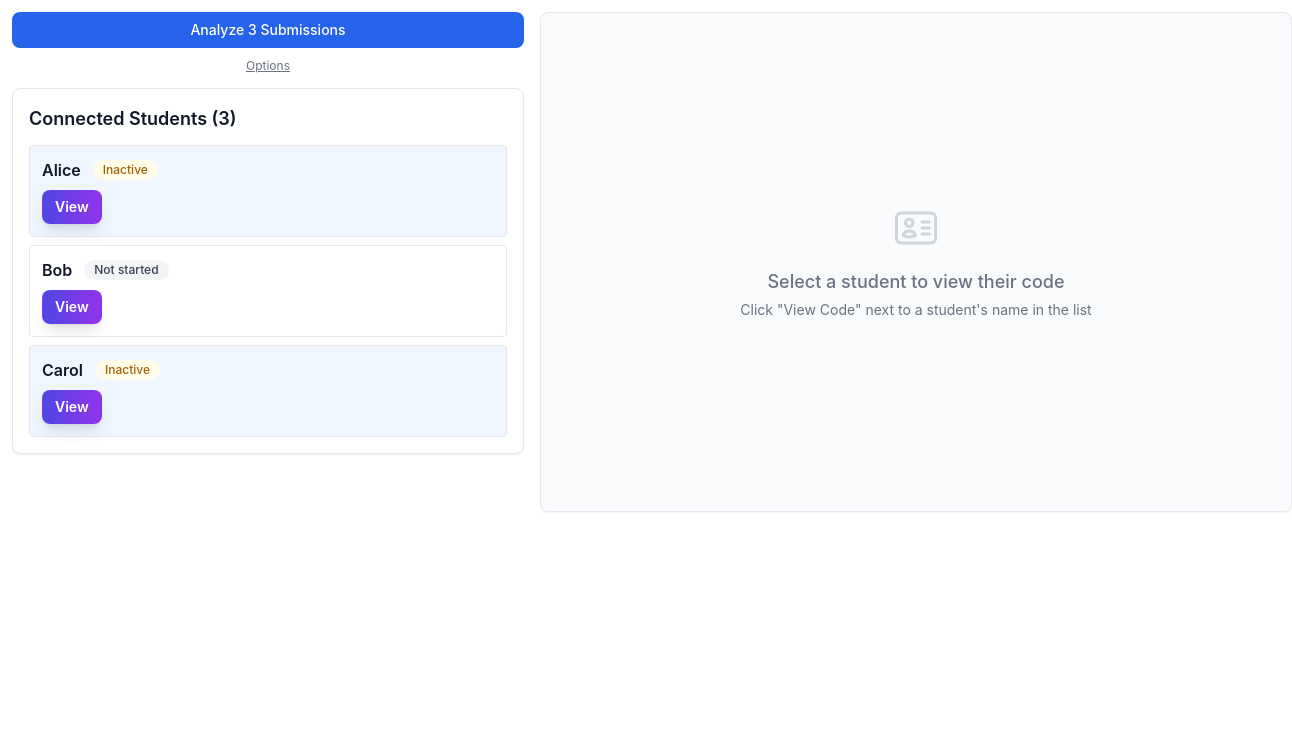
Test: SessionStudentPane › analysis options panel › clicking the options toggle again collapses the panel
Step 1. Click the button with test id "analysis-options-toggle" → (268, 66), box [246,58,290,74]
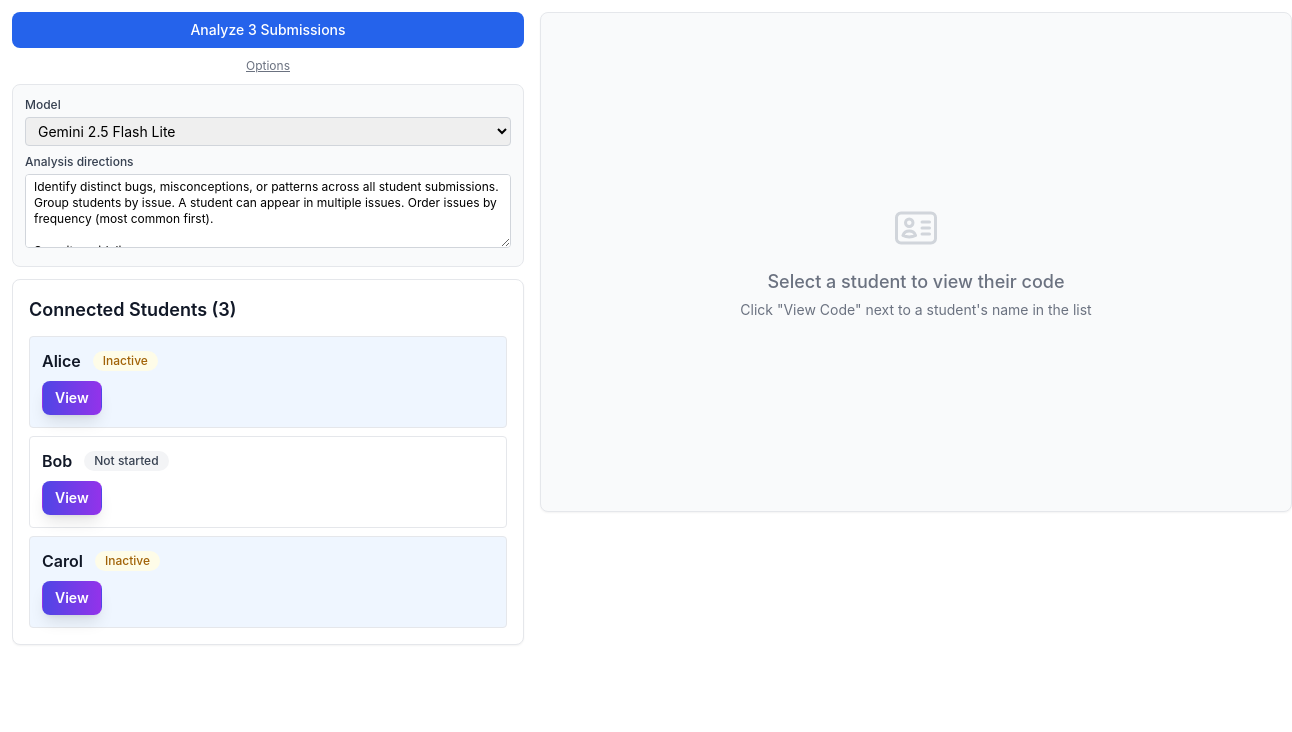
Expected: the element with test id "analysis-options-panel" is shown, [12,84,524,267]
Step 2. Click the button with test id "analysis-options-toggle" → (268, 66), box [246,58,290,74]
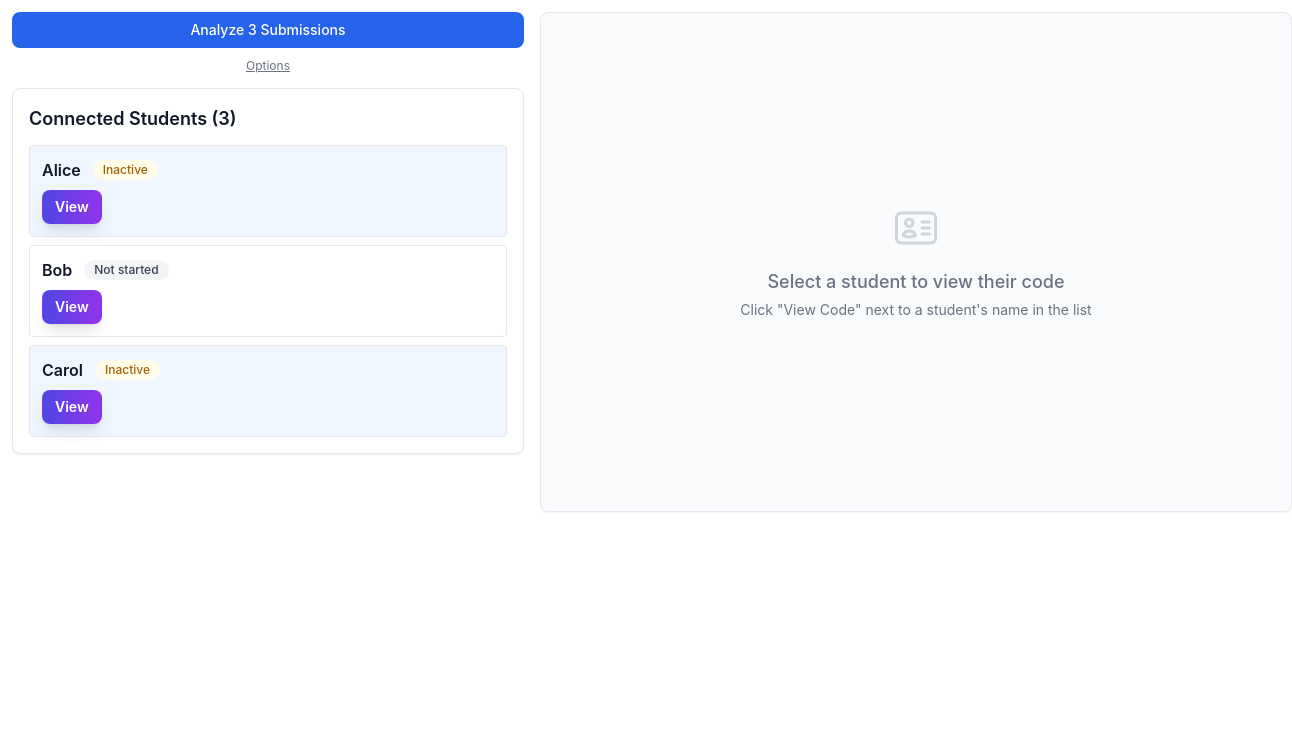
Expected: the element with test id "analysis-options-panel" is gone
